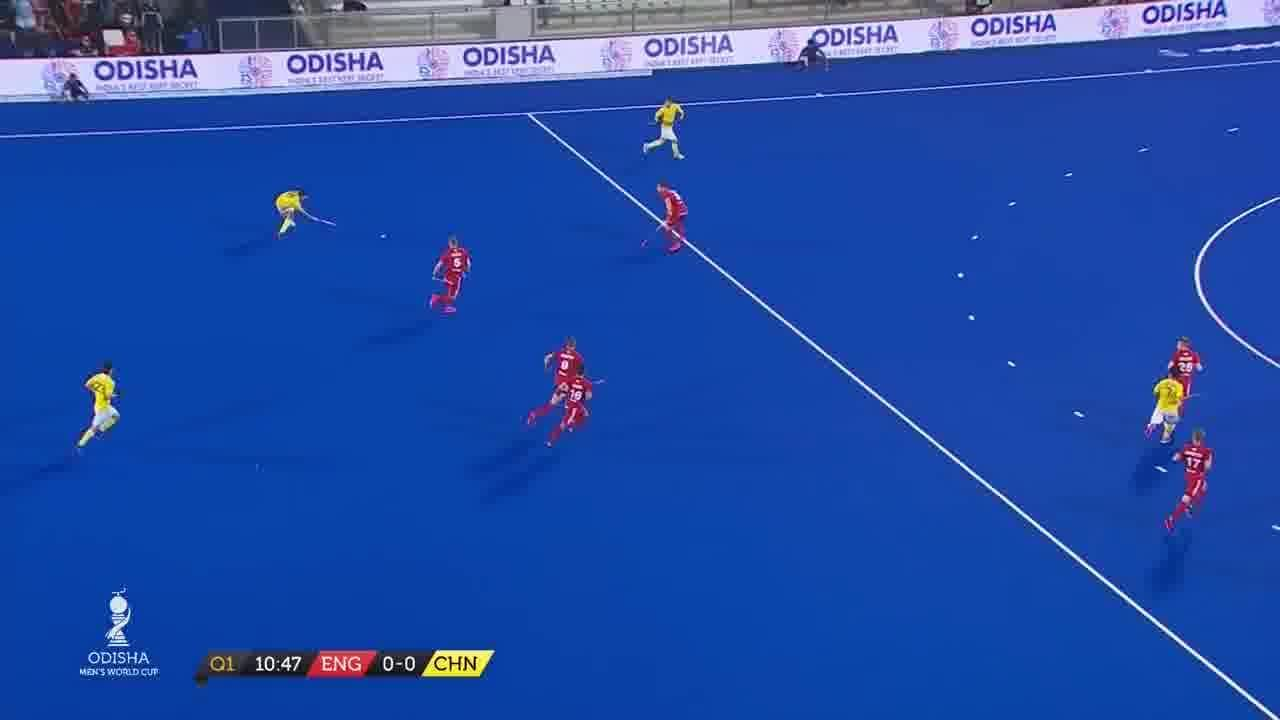ball: (376, 229, 394, 249)
